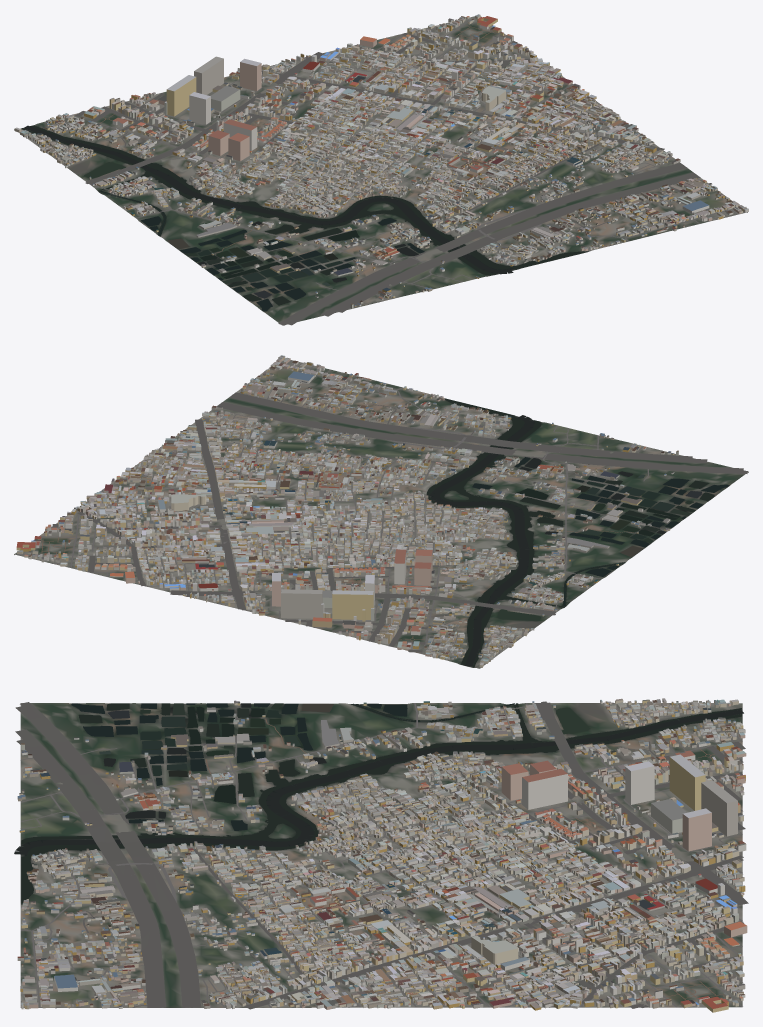
3 renders of one model, top to bottom at view 1: azimuth 30°, elevation 25°; view 2: azimuth 150°, elevation 25°; view 3: azimuth 270°, elevation 25°, orthographic. The views are drawn at different scales.
Parts seen in each view (by area): view 1: buildings, ground, roads, water; view 2: buildings, ground, roads, water; view 3: buildings, ground, roads, water.
Part boxes in pixels (box(x1,y1,x2,y2)): buildings: box(14, 14, 748, 308); ground: box(14, 16, 747, 325); roads: box(19, 17, 744, 325); water: box(21, 76, 587, 311); buildings: box(16, 355, 678, 667); ground: box(14, 360, 748, 668); roads: box(14, 360, 747, 664); water: box(199, 398, 729, 667); buildings: box(17, 698, 747, 1012); ground: box(20, 703, 742, 1007); roads: box(15, 701, 748, 1009); water: box(14, 703, 743, 909).
Size of the model in its own units: 1431 by 79.27 by 1426.
